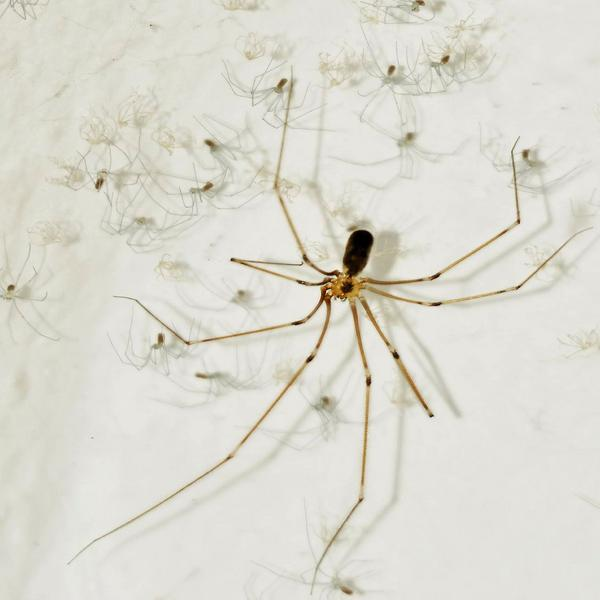Daddy Long Legs Spider: (94, 68, 576, 586)
